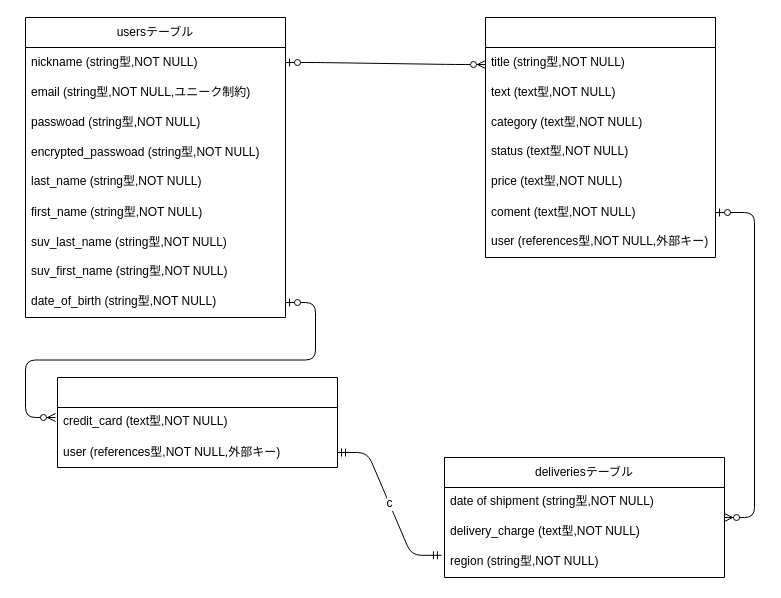
This 781x598 diagram has some shape labels left out. Here are the shapes that lost their labels. From the top down, the box of each, then its label:
(484, 16, 716, 258): itemsテーブル
(56, 376, 338, 468): ordersテーブル
